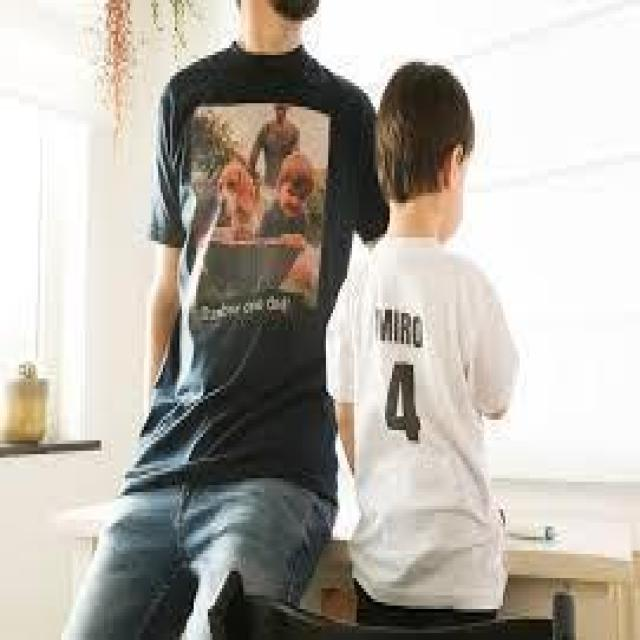Tshirt: (117, 38, 398, 492), (318, 226, 530, 614)
